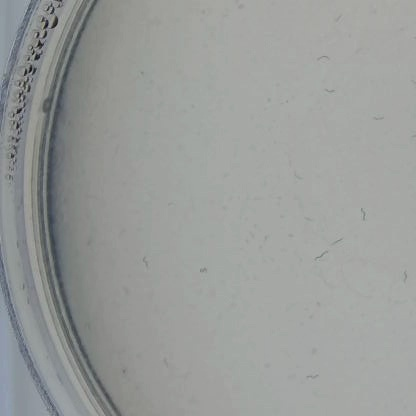worm: (349, 201, 368, 225), (191, 261, 214, 280), (157, 355, 176, 377), (395, 264, 411, 286), (310, 52, 337, 65), (290, 166, 305, 188), (332, 229, 346, 252), (300, 369, 326, 381), (330, 9, 346, 27), (311, 248, 330, 263), (139, 253, 152, 274), (370, 109, 387, 123), (317, 84, 338, 95), (407, 71, 416, 96), (304, 216, 321, 229)
